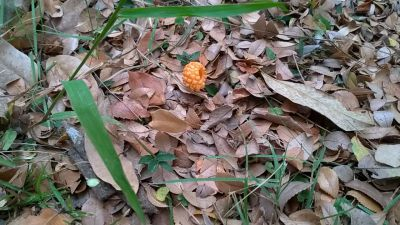eggs: (180, 59, 209, 91)
